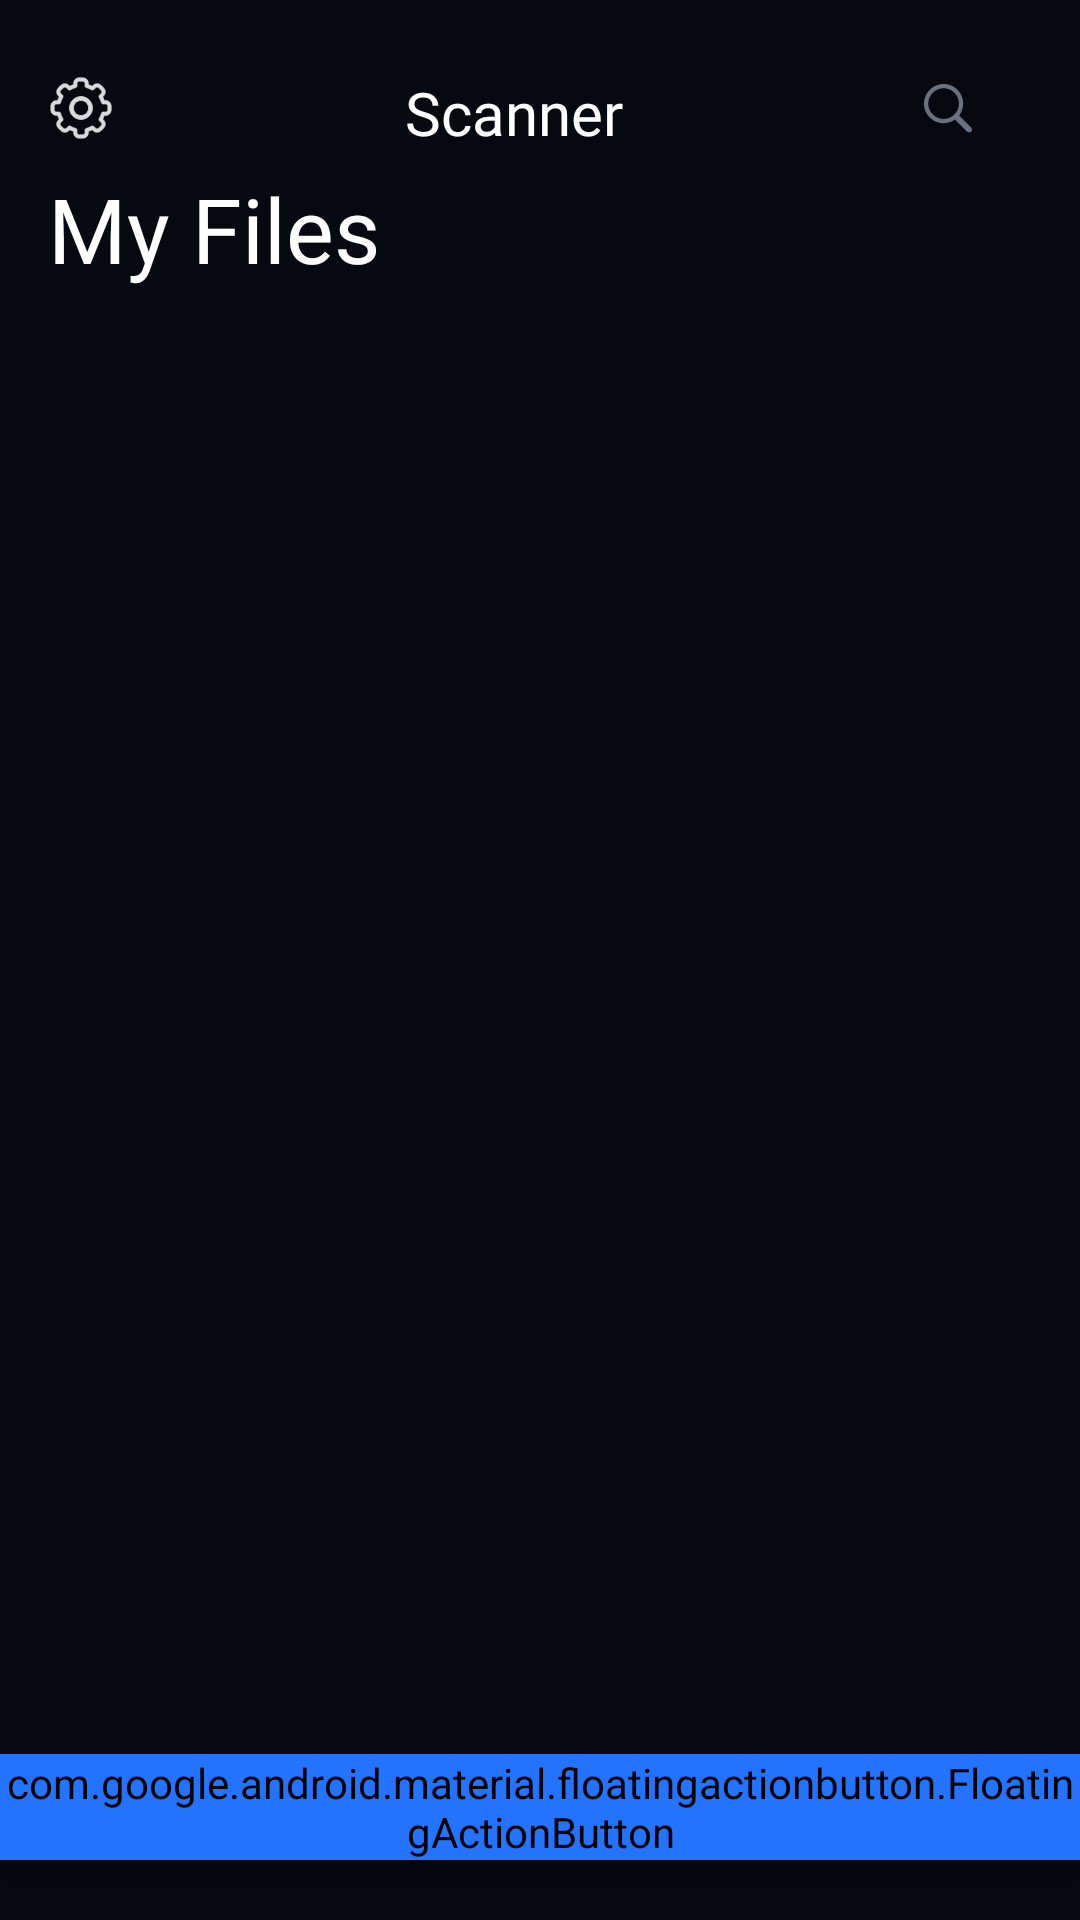

Icon click points for this 1080 x 1920 phone screenshot, format [x,y]:
search: [948,108]
setting: [81,108]
